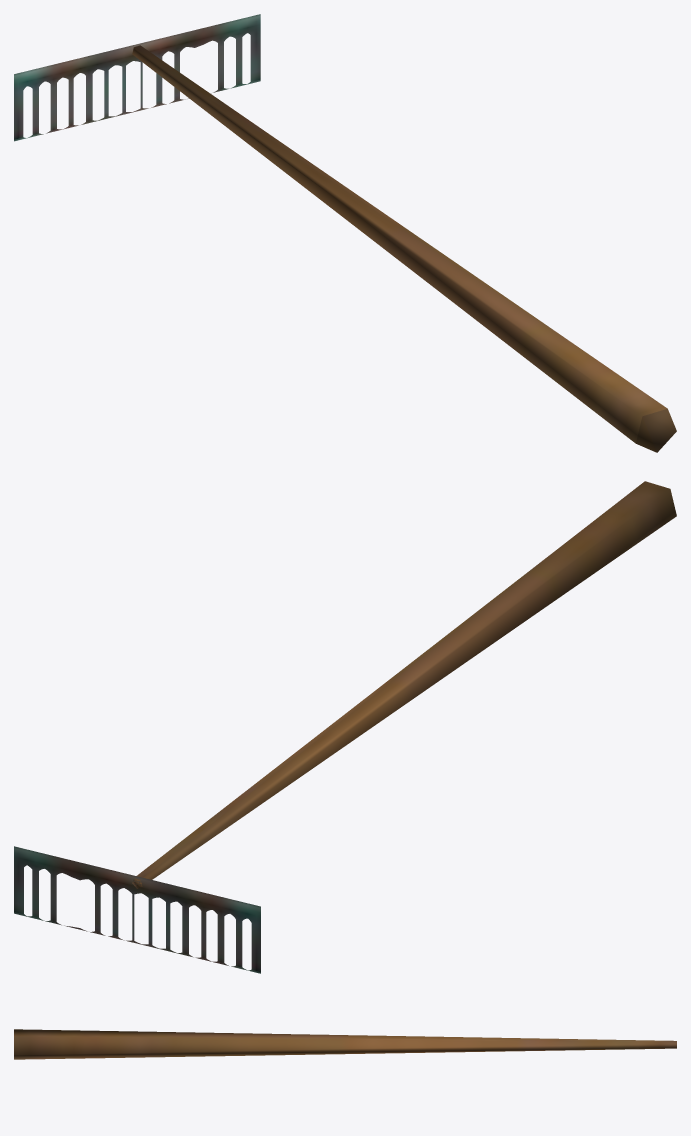
Rendered from rake.glb.
The picture shows the model from 3 angles, top to bottom: view 1: azimuth 30°, elevation 25°; view 2: azimuth 150°, elevation 25°; view 3: azimuth 270°, elevation 25°; orthographic projection. The views are drawn at different scales.
Parts seen in each view (by area): view 1: joint_rake; view 2: joint_rake; view 3: joint_rake.
Boxes of the visible parts, x1=… form: joint_rake: x1=14, y1=14, x2=676, y2=452; joint_rake: x1=14, y1=481, x2=676, y2=973; joint_rake: x1=14, y1=1029, x2=676, y2=1059.
Size of the model in its own units: 1.92 by 0.5913 by 6.99.
2 materials, 2 textured.
